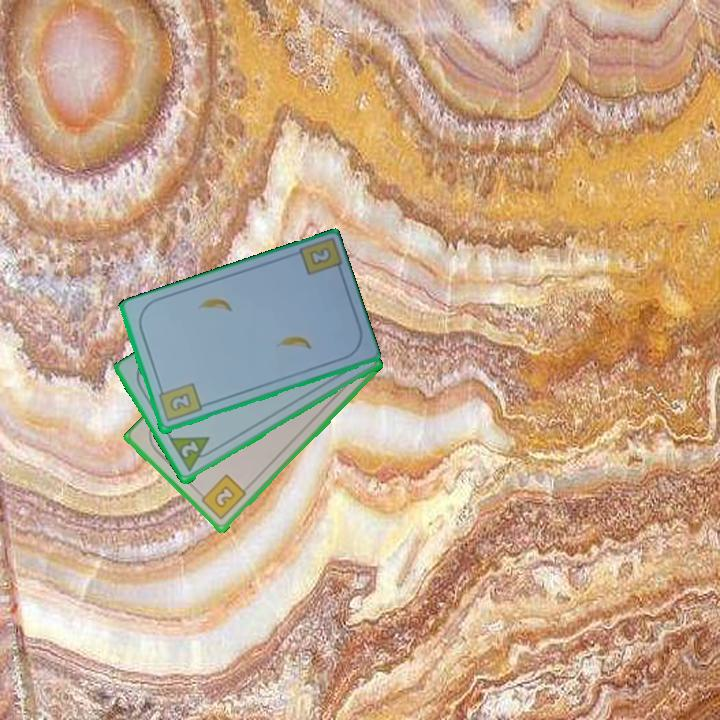2b: (194, 471, 249, 523), (155, 380, 204, 425), (306, 243, 334, 269)
2p: (166, 433, 219, 475)
